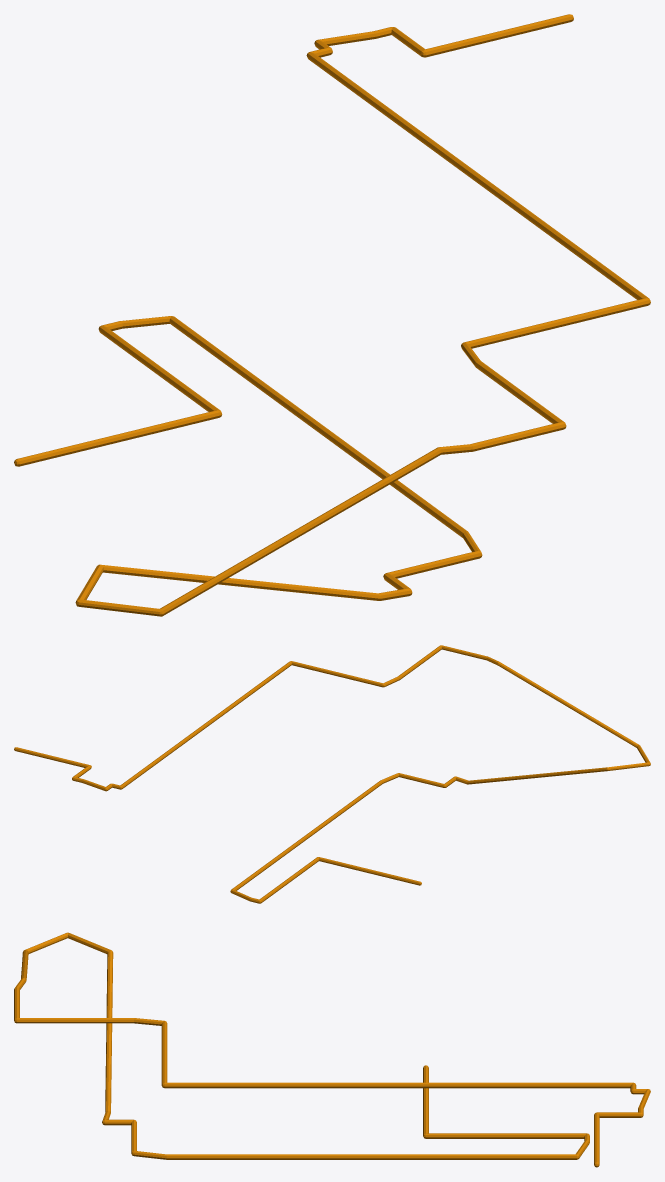
3 renders of one model, top to bottom at view 1: azimuth 30°, elevation 25°; view 2: azimuth 150°, elevation 25°; view 3: azimuth 270°, elevation 25°, orthographic. The views are drawn at different scales.
Bounding box in the file's own units: 2409 × 520 × 2174.
